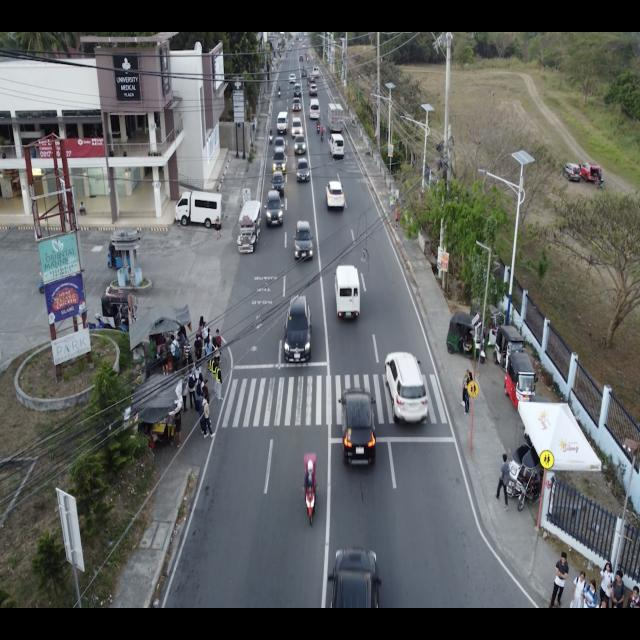car: (325, 542, 384, 614), (337, 386, 379, 474), (384, 348, 430, 426), (282, 294, 313, 364), (174, 190, 223, 230), (332, 263, 362, 321), (236, 199, 262, 255), (293, 219, 314, 263), (263, 189, 285, 229), (325, 180, 345, 212), (579, 161, 601, 184), (271, 147, 287, 176), (560, 162, 582, 183), (269, 170, 285, 198), (328, 133, 344, 160), (295, 157, 311, 184), (275, 111, 289, 136), (290, 116, 304, 140), (293, 134, 307, 156), (308, 98, 321, 121), (273, 136, 286, 154), (291, 96, 301, 112), (308, 83, 318, 97), (293, 83, 302, 98), (312, 65, 319, 79), (288, 72, 296, 84), (308, 73, 316, 83), (301, 69, 307, 78)
motorcycle: (507, 439, 544, 512), (447, 310, 485, 366), (504, 352, 536, 408), (301, 450, 321, 525), (492, 324, 526, 368), (316, 118, 321, 134), (269, 126, 273, 146), (320, 125, 324, 143), (278, 85, 282, 99)
person: (548, 550, 568, 606), (494, 452, 510, 514), (599, 560, 615, 609), (569, 569, 587, 609), (202, 392, 216, 440), (611, 569, 626, 609), (194, 390, 206, 436), (200, 379, 212, 423), (584, 576, 598, 610), (169, 334, 180, 376), (463, 371, 473, 416), (214, 360, 224, 403), (188, 368, 198, 409), (160, 338, 170, 377), (182, 338, 193, 373), (461, 369, 470, 408), (194, 332, 203, 370), (204, 337, 213, 374), (211, 336, 221, 369), (214, 328, 222, 365), (626, 587, 640, 608), (197, 315, 205, 349), (205, 328, 213, 357), (215, 215, 222, 241), (202, 321, 208, 344), (79, 201, 86, 216)
truck: (326, 102, 344, 135)
